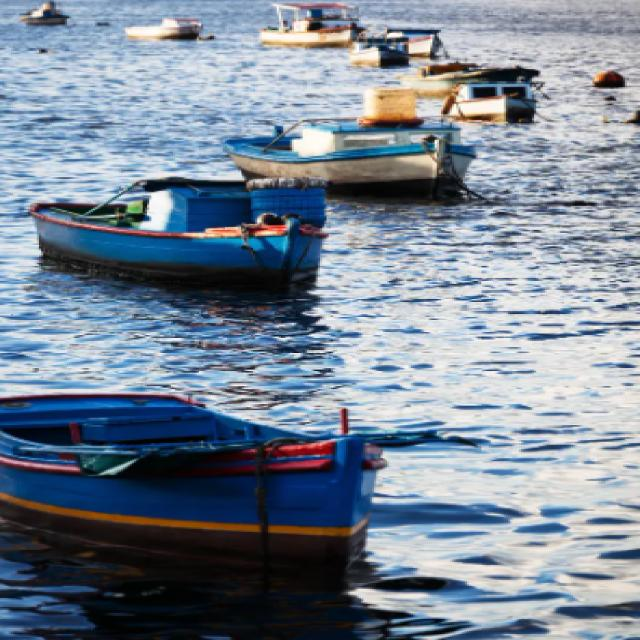fishing boat: (0, 376, 386, 549), (22, 169, 329, 280), (222, 82, 454, 188), (255, 2, 359, 45), (410, 62, 535, 94), (451, 81, 549, 118), (349, 22, 435, 63), (124, 15, 206, 42), (17, 1, 69, 23)
